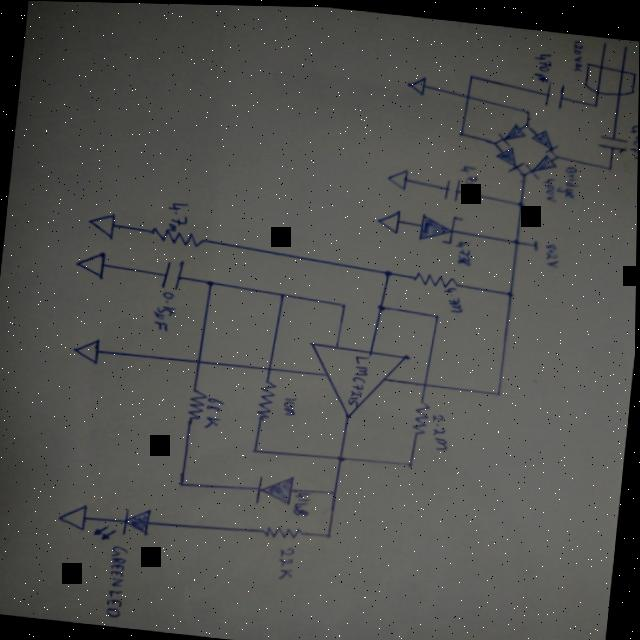capacitor: (159, 256, 185, 289), (542, 78, 565, 106), (596, 131, 628, 149), (441, 174, 461, 201)
crossover: (421, 379, 429, 388), (462, 91, 471, 98), (266, 364, 274, 371), (195, 357, 203, 364)
diode: (93, 502, 153, 544), (417, 208, 464, 243), (253, 470, 297, 506), (493, 142, 525, 172), (524, 149, 557, 178), (529, 125, 560, 151), (495, 120, 526, 144)
ground: (74, 248, 107, 279), (85, 210, 117, 239), (58, 500, 88, 530), (72, 335, 102, 363), (375, 206, 401, 232), (385, 165, 410, 189), (404, 72, 427, 94)
junction: (510, 234, 522, 244), (504, 287, 517, 296), (337, 298, 348, 308), (381, 266, 393, 275), (375, 301, 387, 310), (336, 453, 346, 461), (206, 278, 216, 285), (488, 138, 497, 145), (457, 128, 465, 135), (519, 169, 527, 176), (516, 198, 524, 205), (495, 387, 503, 394), (407, 459, 415, 466), (605, 161, 613, 168), (552, 150, 560, 157), (467, 70, 474, 77), (326, 530, 333, 537), (433, 310, 440, 317), (523, 119, 530, 126), (591, 98, 598, 105), (279, 291, 287, 297), (179, 480, 187, 486), (252, 446, 259, 452), (330, 489, 338, 494), (524, 107, 530, 112)
resistor: (148, 225, 205, 249), (254, 379, 279, 419), (412, 268, 459, 287), (184, 386, 208, 422), (261, 521, 305, 540), (410, 398, 430, 434)
terminal: (531, 236, 540, 249), (601, 36, 608, 44), (622, 40, 629, 47)
text: (104, 544, 130, 617), (150, 288, 179, 331), (347, 353, 370, 407), (163, 197, 192, 232), (428, 411, 452, 449), (555, 161, 580, 197), (457, 161, 483, 192), (530, 48, 553, 82), (204, 394, 226, 429), (277, 543, 297, 579), (440, 284, 465, 312), (292, 488, 313, 517), (452, 237, 474, 264), (567, 36, 585, 69), (625, 119, 639, 161), (540, 174, 559, 199), (543, 240, 561, 265), (282, 394, 298, 415)
